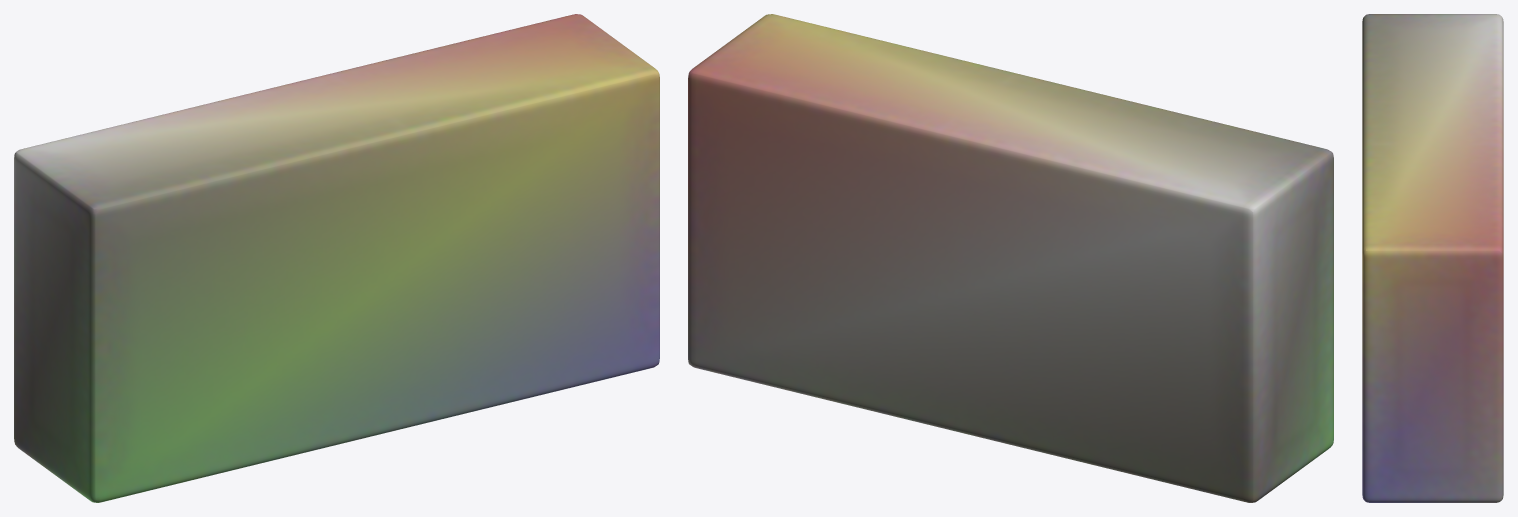
The model's file is vertex_gray_box_marching_cubes.glb.
3 renders of one model, left to right at view 1: azimuth 30°, elevation 25°; view 2: azimuth 150°, elevation 25°; view 3: azimuth 270°, elevation 25°, orthographic. The views are drawn at different scales.
Parts seen in each view (by area): view 1: world; view 2: world; view 3: world.
Part boxes in pixels (left/top/right/bottom): world: left=14, top=14, right=659, bottom=502; world: left=688, top=14, right=1333, bottom=502; world: left=1362, top=14, right=1503, bottom=502.
Size of the model in its own units: 16.85 by 8.43 by 4.23.
